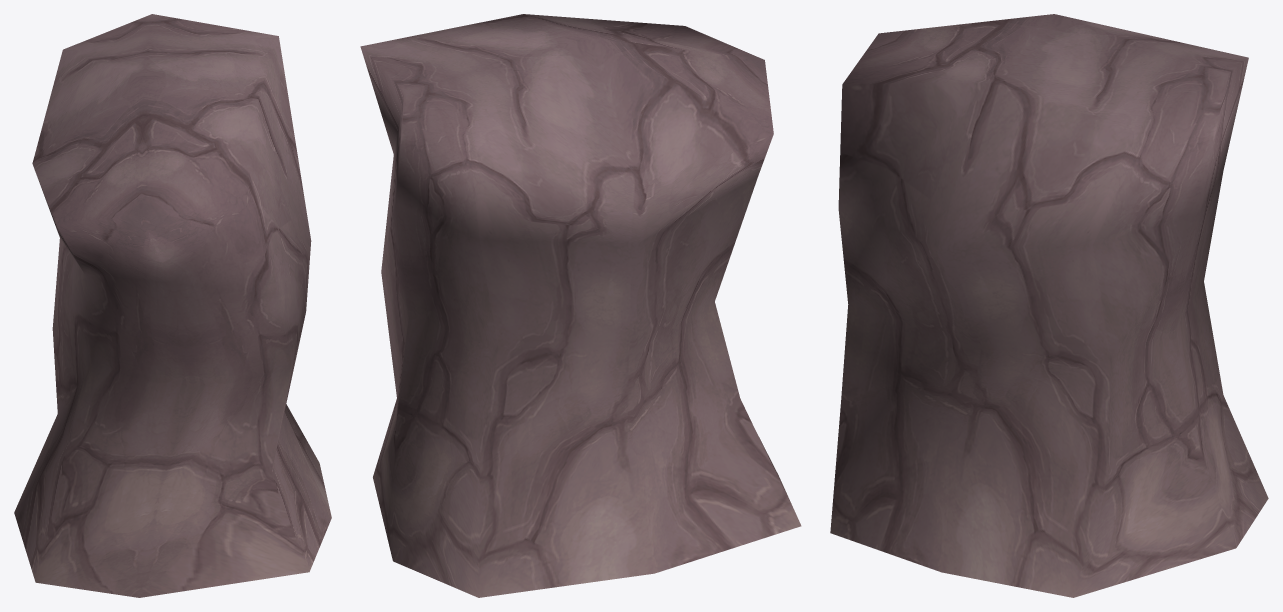
Rendered from rock_03.fbx.
3 renders of one model, left to right at view 1: azimuth 30°, elevation 25°; view 2: azimuth 150°, elevation 25°; view 3: azimuth 270°, elevation 25°, orthographic. The views are drawn at different scales.
Parts seen in each view (by area): view 1: rock_03; view 2: rock_03; view 3: rock_03.
Part boxes in pixels (left/top/right/bottom): rock_03: left=14, top=14, right=331, bottom=597; rock_03: left=360, top=14, right=801, bottom=597; rock_03: left=830, top=14, right=1268, bottom=597.
Bounding box in the file's own units: 3.24 × 4.02 × 3.3.
